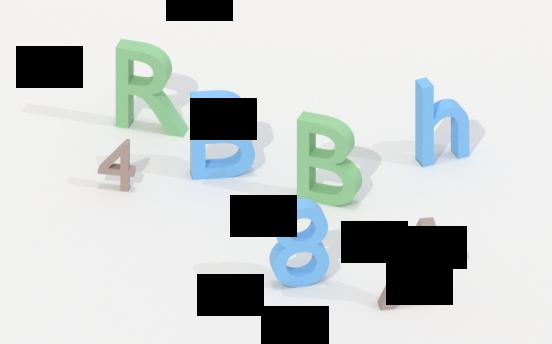4: (94, 135, 140, 192)
8: (265, 199, 334, 291)
R-hoa: (112, 38, 185, 138)
Y: (369, 217, 439, 311)
b: (291, 113, 368, 207), (185, 88, 258, 181)
h: (407, 74, 483, 169)
